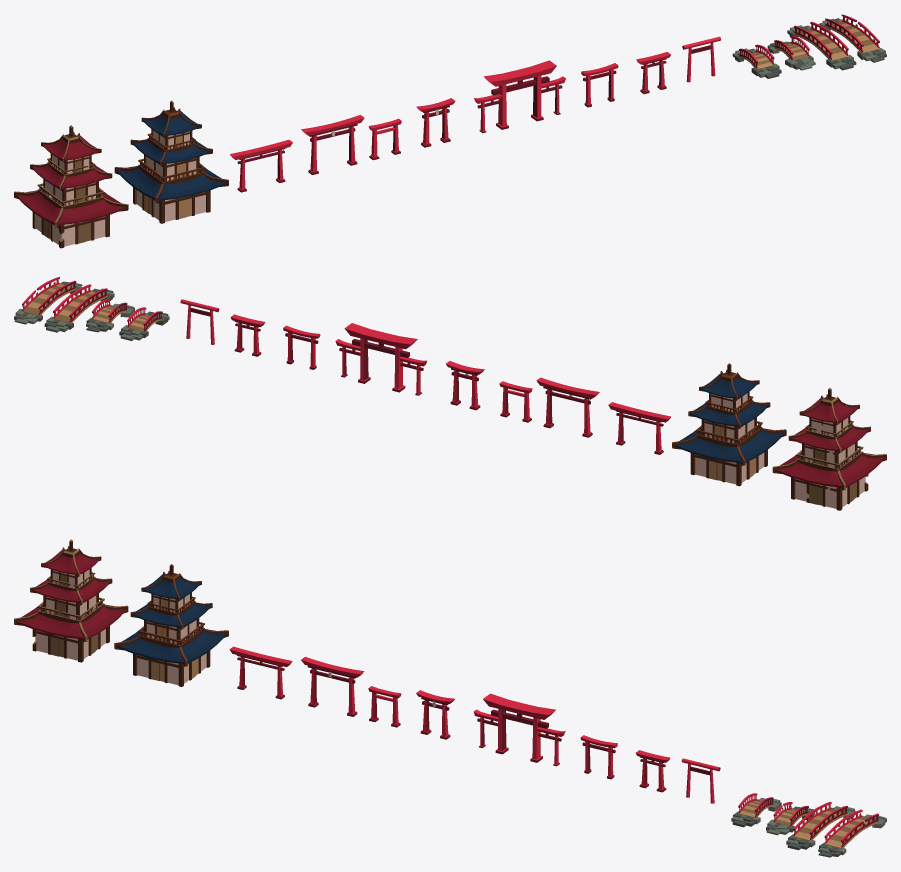
File: semana_6.fbx
The picture shows the model from 3 angles, top to bottom: view 1: azimuth 30°, elevation 25°; view 2: azimuth 150°, elevation 25°; view 3: azimuth 330°, elevation 25°; orthographic projection.
Visible parts, largest first — view 1: pagode_danificado, pagode, portao_torii_006, ponte_base_longa, ponte_longa, portao_torii_007, portao_torii_008, ponte_base, ponte_longa.001, portao_torii_004, portao_torii_003, portao_torii_002 (+2 smaller); view 2: pagode, pagode_danificado, portao_torii_006, ponte_base_longa, ponte_longa, portao_torii_007, portao_torii_008, ponte_base, ponte_longa.001, portao_torii_004, portao_torii_003, portao_torii_002 (+2 smaller); view 3: pagode, pagode_danificado, portao_torii_006, ponte_longa, ponte_base_longa, portao_torii_007, portao_torii_008, ponte_base, ponte_longa.001, portao_torii_004, portao_torii_003, portao_torii_002 (+1 smaller).
Part boxes in pixels (left/top/right/bottom): pagode_danificado: left=14, top=125, right=128, bottom=248; pagode: left=114, top=100, right=228, bottom=223; portao_torii_006: left=474, top=60, right=565, bottom=133; ponte_base_longa: left=787, top=22, right=856, bottom=70; ponte_longa: left=819, top=14, right=886, bottom=62; portao_torii_007: left=301, top=115, right=364, bottom=174; portao_torii_008: left=230, top=139, right=292, bottom=192; ponte_base: left=732, top=44, right=781, bottom=78; ponte_longa.001: left=767, top=36, right=815, bottom=70; portao_torii_004: left=416, top=98, right=455, bottom=147; portao_torii_003: left=581, top=63, right=618, bottom=107; portao_torii_002: left=636, top=52, right=670, bottom=94; pagode: left=672, top=363, right=786, bottom=486; pagode_danificado: left=772, top=388, right=886, bottom=510; portao_torii_006: left=335, top=323, right=426, bottom=395; ponte_base_longa: left=44, top=284, right=114, bottom=332; ponte_longa: left=14, top=277, right=82, bottom=324; portao_torii_007: left=536, top=377, right=599, bottom=437; portao_torii_008: left=608, top=402, right=670, bottom=454; ponte_base: left=119, top=307, right=169, bottom=340; ponte_longa.001: left=86, top=298, right=134, bottom=332; portao_torii_004: left=446, top=361, right=484, bottom=410; portao_torii_003: left=283, top=325, right=320, bottom=369; portao_torii_002: left=230, top=314, right=265, bottom=356; pagode: left=114, top=564, right=228, bottom=686; pagode_danificado: left=14, top=539, right=128, bottom=662; portao_torii_006: left=473, top=693, right=565, bottom=766; ponte_longa: left=818, top=809, right=886, bottom=857; ponte_base_longa: left=786, top=802, right=855, bottom=850; portao_torii_007: left=301, top=656, right=364, bottom=716; portao_torii_008: left=229, top=646, right=292, bottom=699; ponte_base: left=731, top=793, right=781, bottom=827; ponte_longa.001: left=766, top=802, right=814, bottom=835; portao_torii_004: left=416, top=690, right=454, bottom=739; portao_torii_003: left=580, top=735, right=617, bottom=779; portao_torii_002: left=636, top=750, right=669, bottom=792.
Size of the model in its own units: 13161 by 1622 by 1494.
